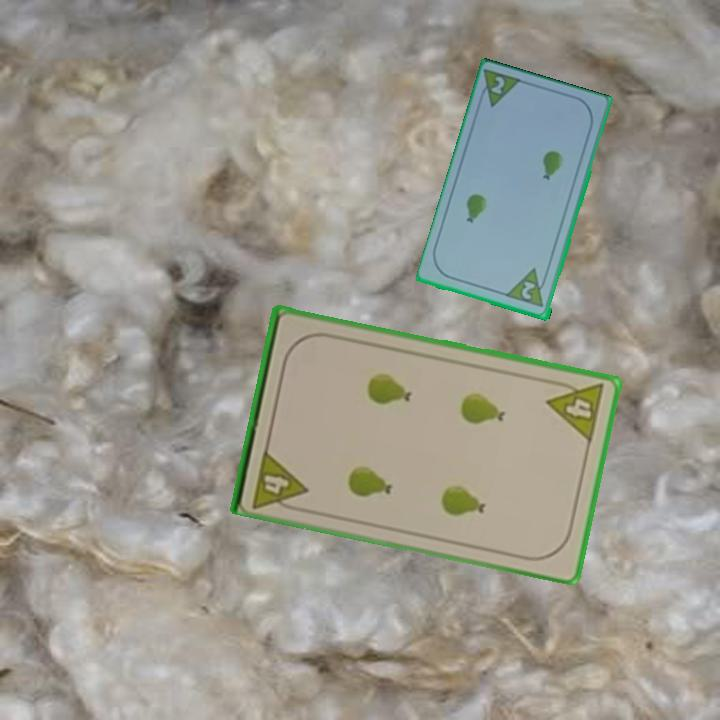2p: (475, 67, 526, 111), (504, 265, 551, 311)
4p: (543, 375, 607, 445), (248, 445, 310, 515)
